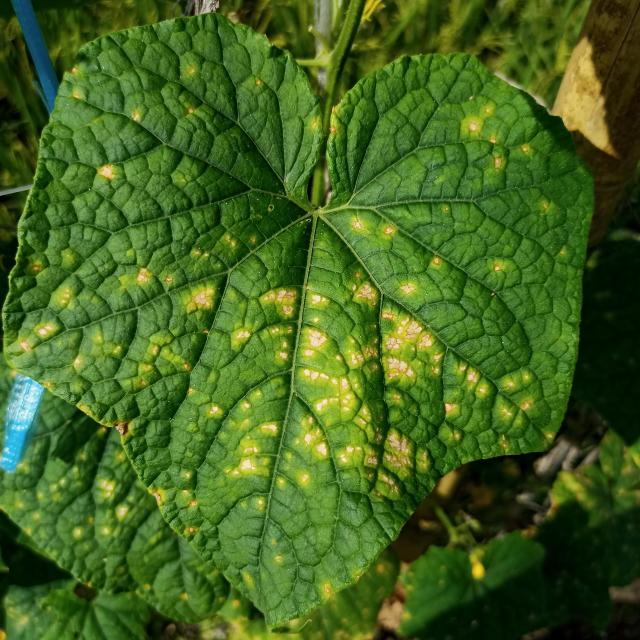disease_cucumber: (23, 54, 553, 555)
